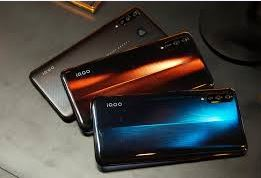mobil: (57, 30, 216, 136), (89, 87, 248, 172)
